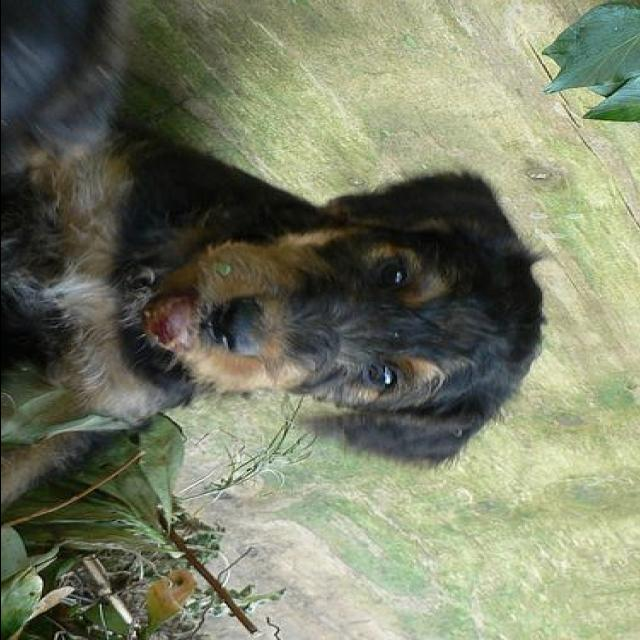airedale: (2, 1, 556, 476)
